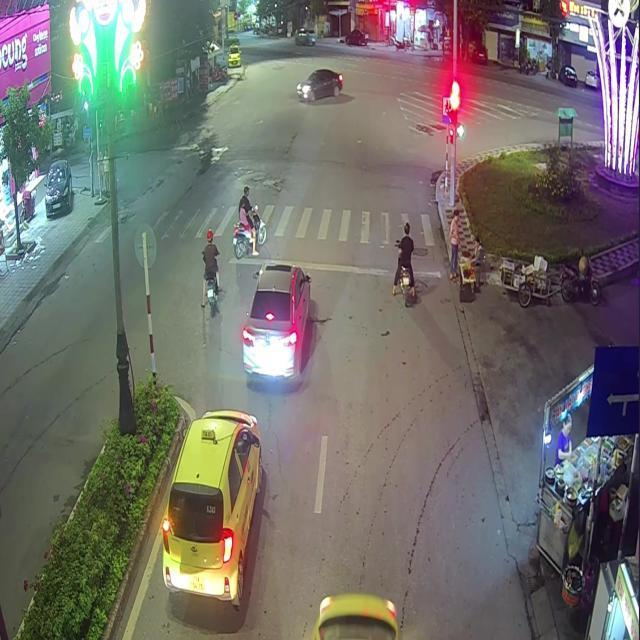car: (160, 409, 263, 605), (240, 262, 310, 383), (309, 592, 399, 638)
motobike: (233, 210, 266, 256), (398, 262, 412, 309), (205, 277, 217, 315)
red_light: (450, 92, 457, 125)
stop_line: (226, 256, 440, 277)
